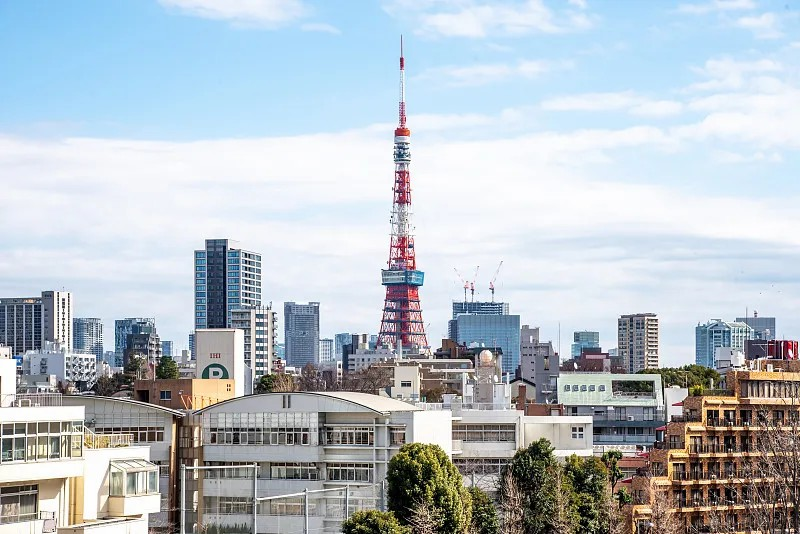Tokyo: (374, 31, 434, 355)
